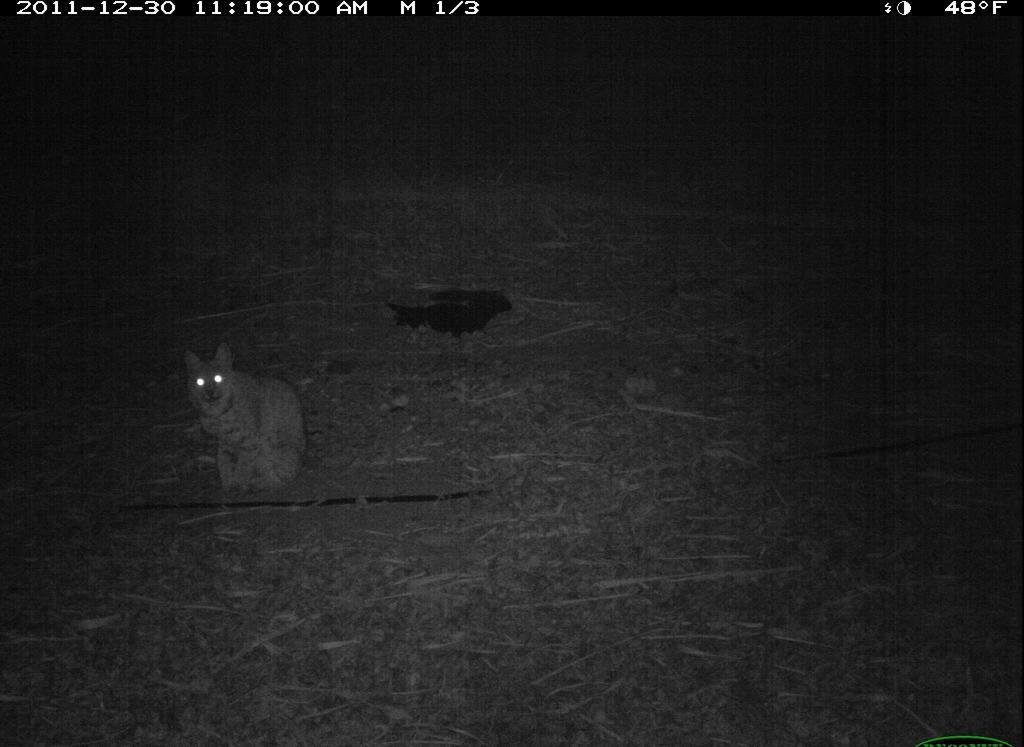bobcat: (163, 327, 333, 514)
